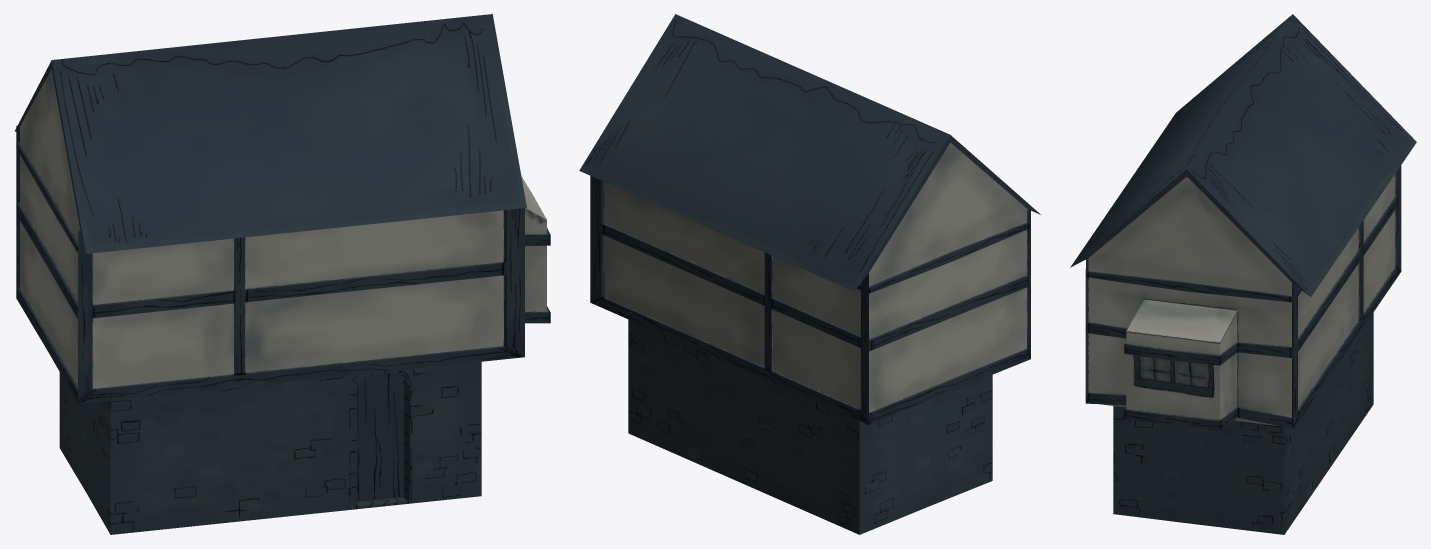
Rendered from House1_2.fbx.
The picture shows the model from 3 angles, left to right: view 1: azimuth 30°, elevation 25°; view 2: azimuth 150°, elevation 25°; view 3: azimuth 270°, elevation 25°; orthographic projection. The views are drawn at different scales.
Parts seen in each view (by area): view 1: house01_proper1; view 2: house01_proper1; view 3: house01_proper1.
Part boxes in pixels (left/top/right/bottom): house01_proper1: left=14, top=14, right=550, bottom=534; house01_proper1: left=579, top=14, right=1040, bottom=534; house01_proper1: left=1070, top=14, right=1416, bottom=534.
Bounding box in the file's own units: 603 × 544 × 466.
